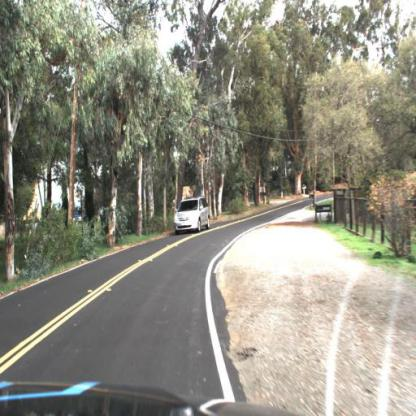car: (170, 191, 214, 237)
